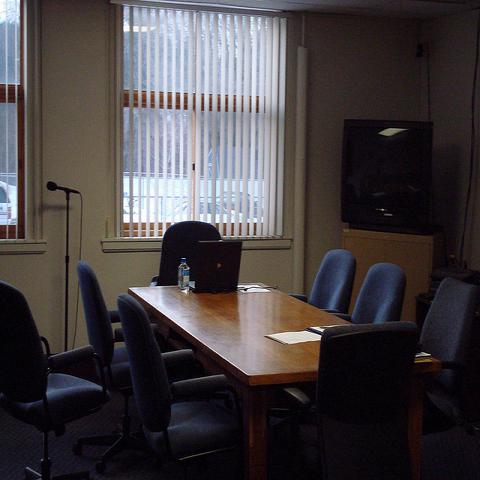car: (167, 188, 266, 223), (0, 173, 18, 225)
